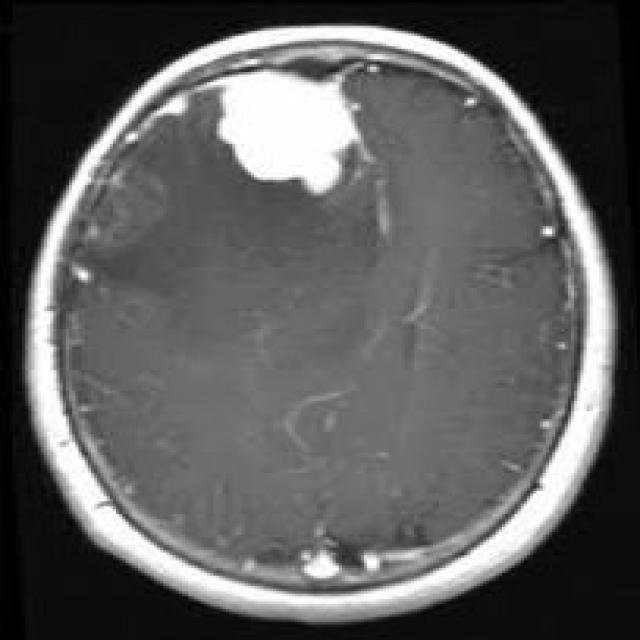brain_tumor: (214, 70, 362, 194)
